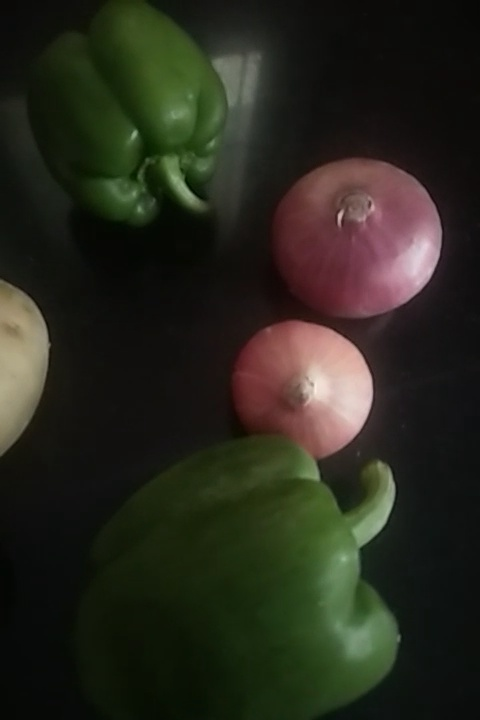capsicum: (62, 437, 412, 719), (29, 4, 225, 239)
onion: (264, 165, 440, 306), (211, 316, 375, 448)
potato: (1, 281, 59, 438)
